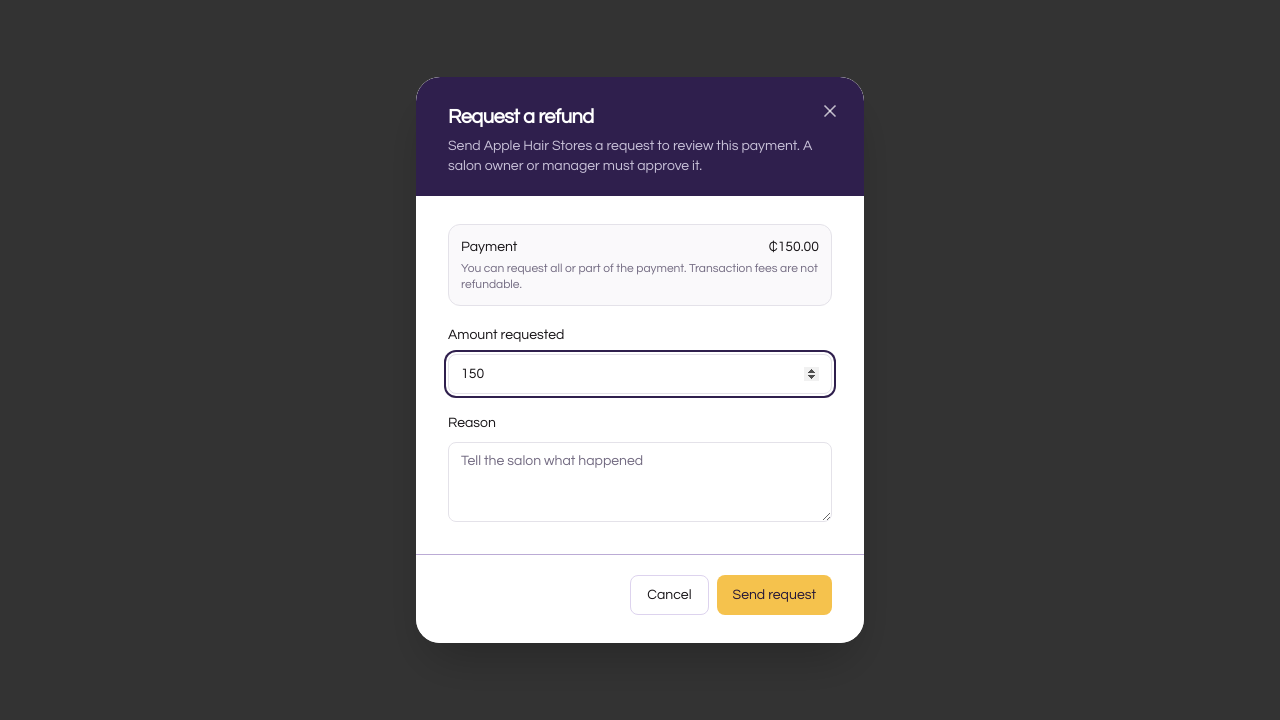
Test: ClientRefundRequestDialog › requires a reason before sending
Click the button "Send request".
click(774, 595)  # box [716,575,832,615]
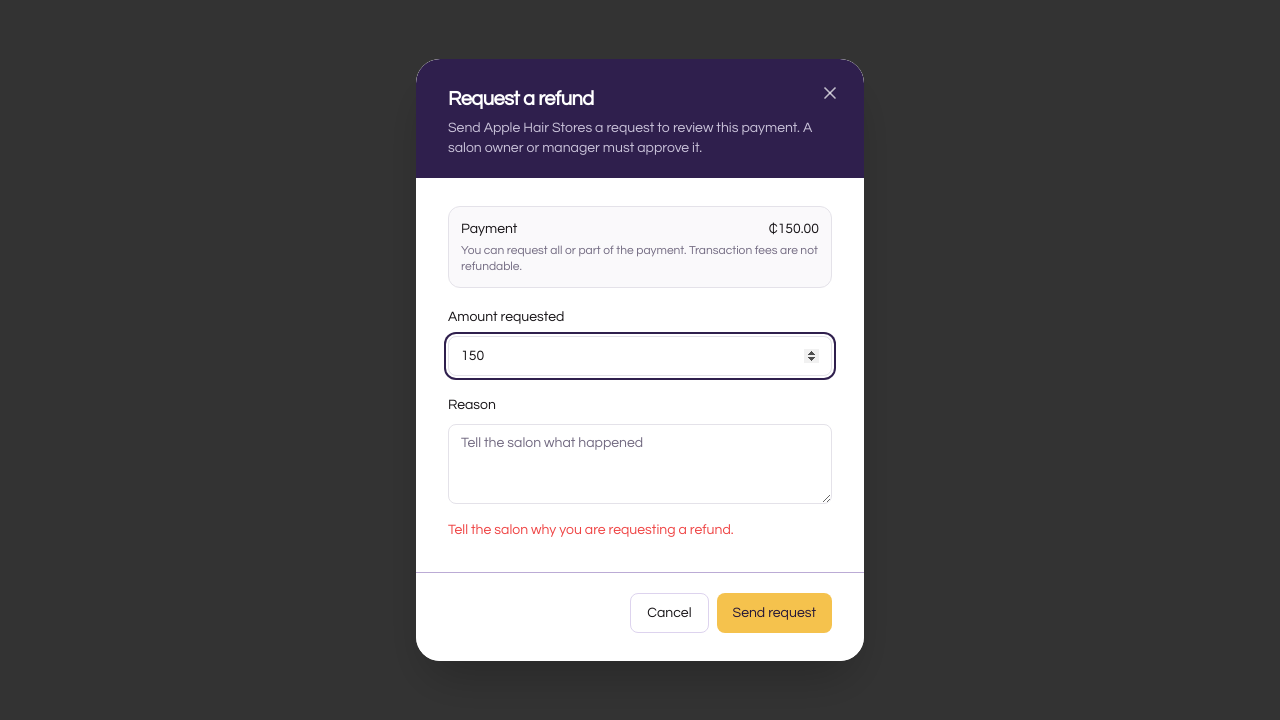
Expected: the message shows "Tell the salon why", [448,523,734,537]
